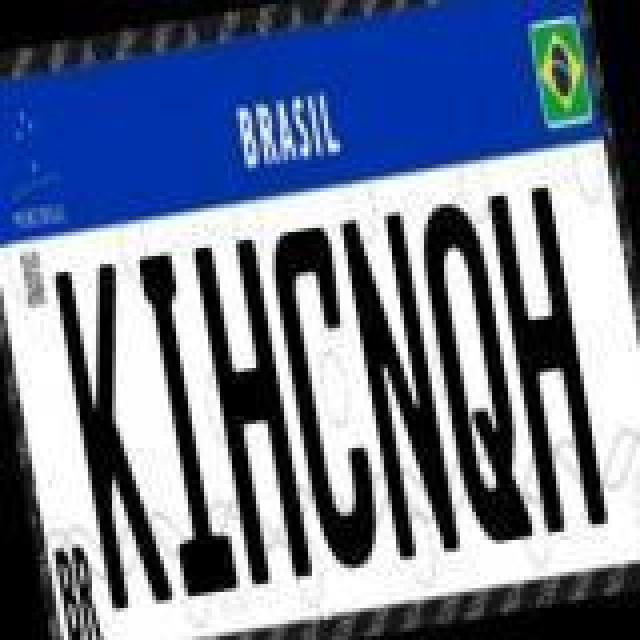C: (266, 218, 390, 574)
H: (482, 182, 606, 538), (190, 236, 314, 588)
I: (126, 248, 242, 600)
K: (50, 260, 174, 612)
N: (338, 206, 462, 562)
Q: (410, 190, 534, 546)
